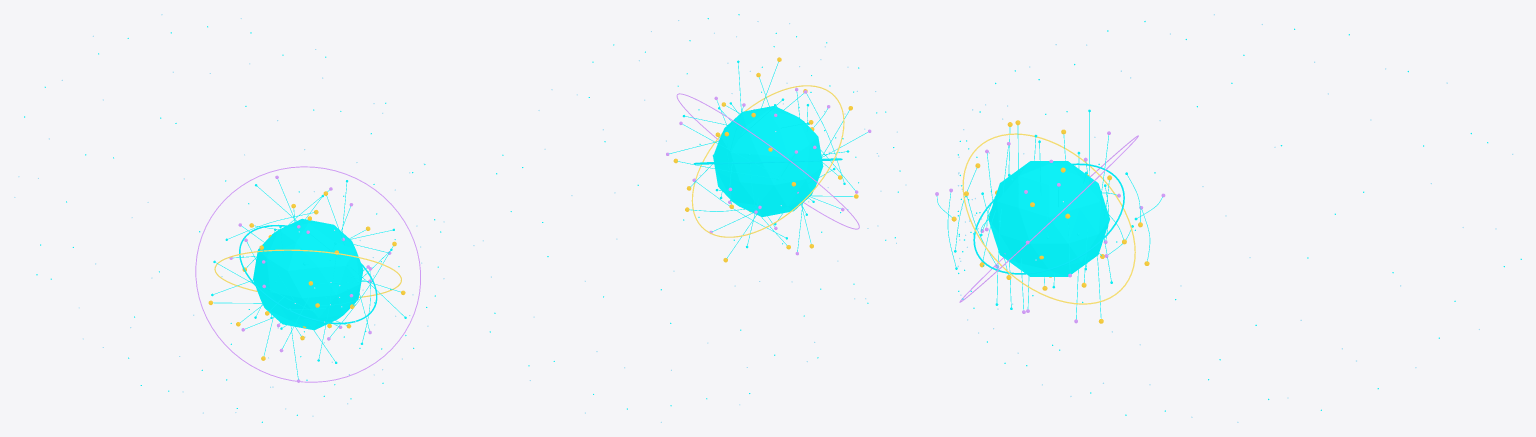
Rendered from neural_core.glb.
3 renders of one model, left to right at view 1: azimuth 30°, elevation 25°; view 2: azimuth 150°, elevation 25°; view 3: azimuth 270°, elevation 25°, orthographic. The views are drawn at different scales.
Parts seen in each view (by area): view 1: Exoskeleton_Lattice, AxonNetwork, Gimbal_Ring_3, Gimbal_Ring_1, Gimbal_Ring_2; view 2: Exoskeleton_Lattice, AxonNetwork, Gimbal_Ring_2, Gimbal_Ring_3; view 3: Exoskeleton_Lattice, AxonNetwork, Gimbal_Ring_2, Gimbal_Ring_1, Gimbal_Ring_3.
Part boxes in pixels (<box>): Exoskeleton_Lattice: <box>253,218,363,330</box>; AxonNetwork: <box>213,179,404,379</box>; Gimbal_Ring_3: <box>195,166,420,382</box>; Gimbal_Ring_1: <box>239,224,377,324</box>; Gimbal_Ring_2: <box>214,249,401,297</box>; Exoskeleton_Lattice: <box>713,106,823,216</box>; AxonNetwork: <box>669,62,867,258</box>; Gimbal_Ring_2: <box>691,85,844,237</box>; Gimbal_Ring_3: <box>676,93,859,229</box>; Exoskeleton_Lattice: <box>988,161,1109,276</box>; AxonNetwork: <box>936,112,1162,319</box>; Gimbal_Ring_2: <box>962,133,1135,304</box>; Gimbal_Ring_1: <box>973,163,1124,274</box>; Gimbal_Ring_3: <box>959,135,1138,302</box>.
Size of the model in its own units: 17.27 by 17.3 by 25.01.
